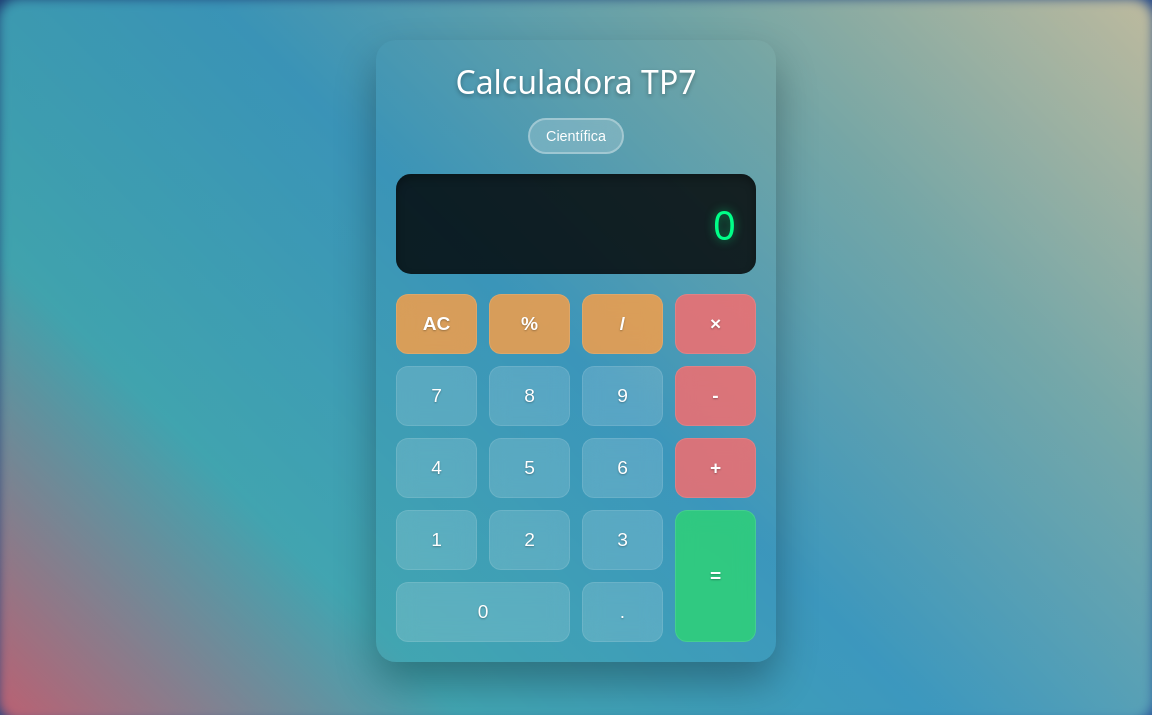
Test: performs scientific operations
The width and height of the screenshot is (1152, 715).
# Switch to scientific mode
Click the button "Científica": coordinates (576, 136) [528,118,624,154]
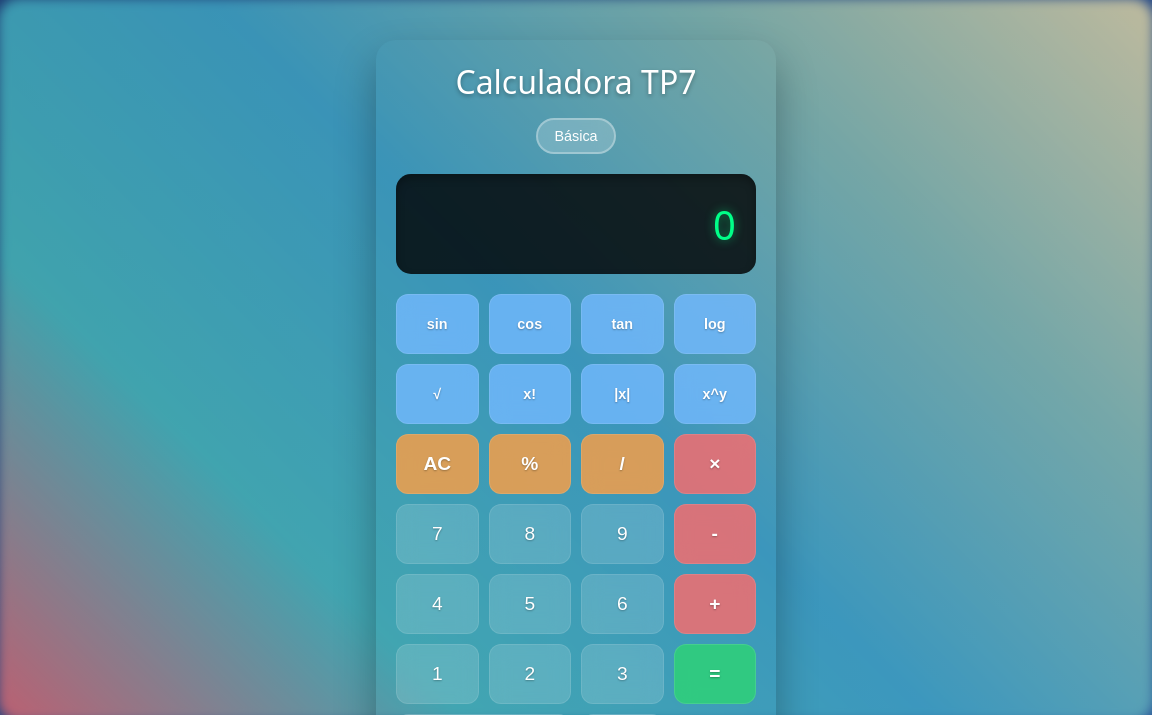
# Test square root of 9
Click the button "9": coordinates (622, 534) [581,504,664,564]
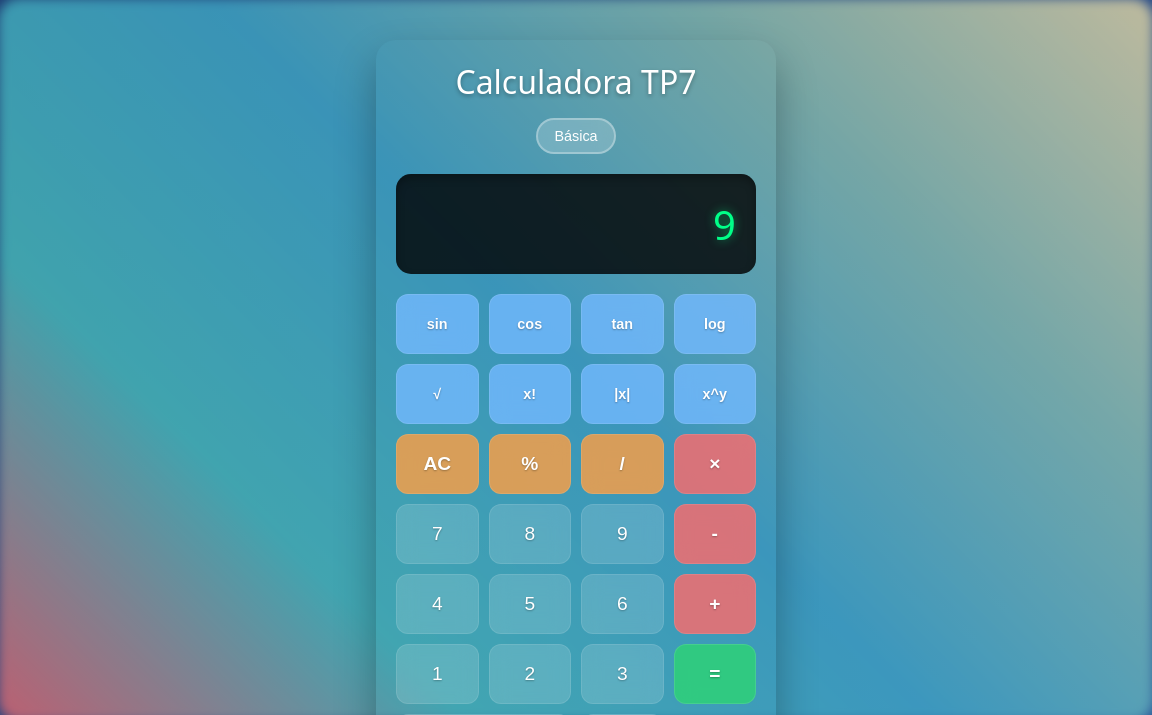
Click the button "√": coordinates (437, 394) [396,364,478,424]
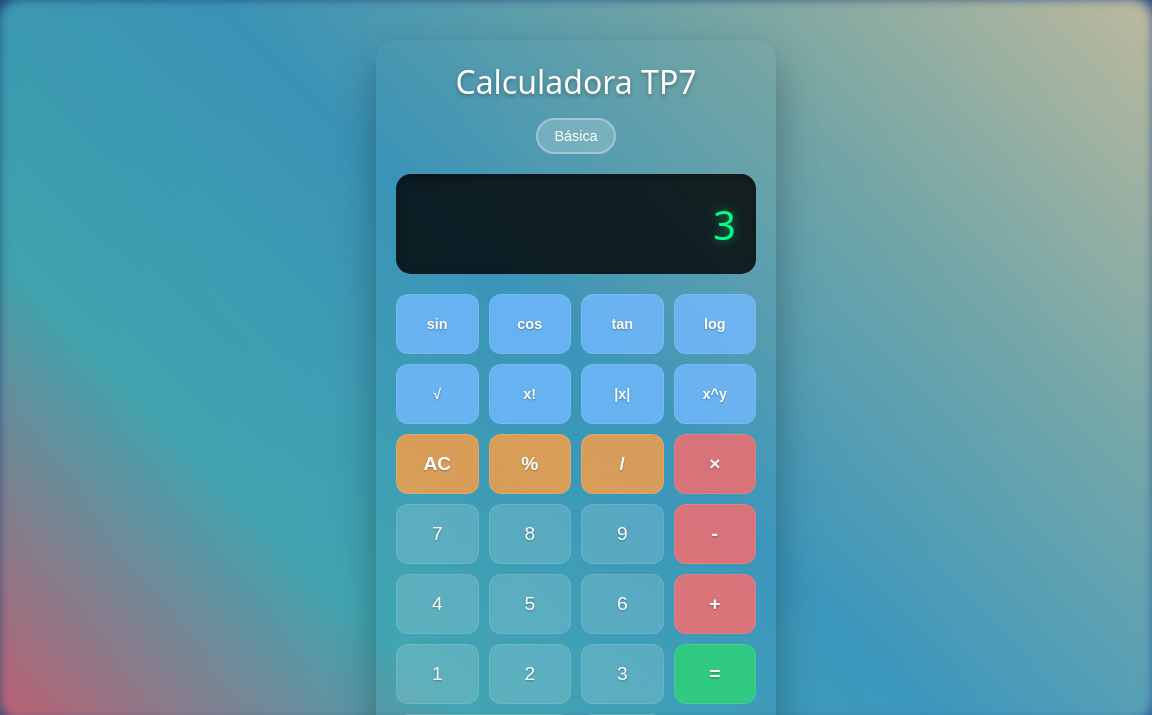
Result: the field with test id "display" reads "3" at [713,196,736,252]
